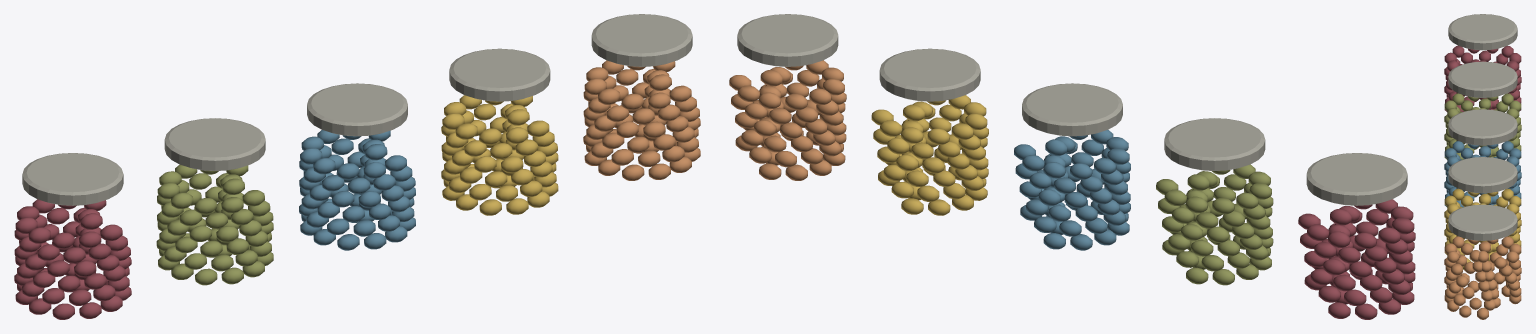
Rendered from candy.glb.
The picture shows the model from 3 angles, left to right: view 1: azimuth 30°, elevation 25°; view 2: azimuth 150°, elevation 25°; view 3: azimuth 270°, elevation 25°; orthographic projection. The views are drawn at different scales.
Parts seen in each view (by area): view 1: candy; view 2: candy; view 3: candy.
Part boxes in pixels (x1,y1,x2,y2): candy: (14, 14, 700, 319); candy: (729, 14, 1415, 319); candy: (1444, 14, 1521, 319).
Bounding box in the file's own units: 1.29 × 0.2319 × 0.1869.
